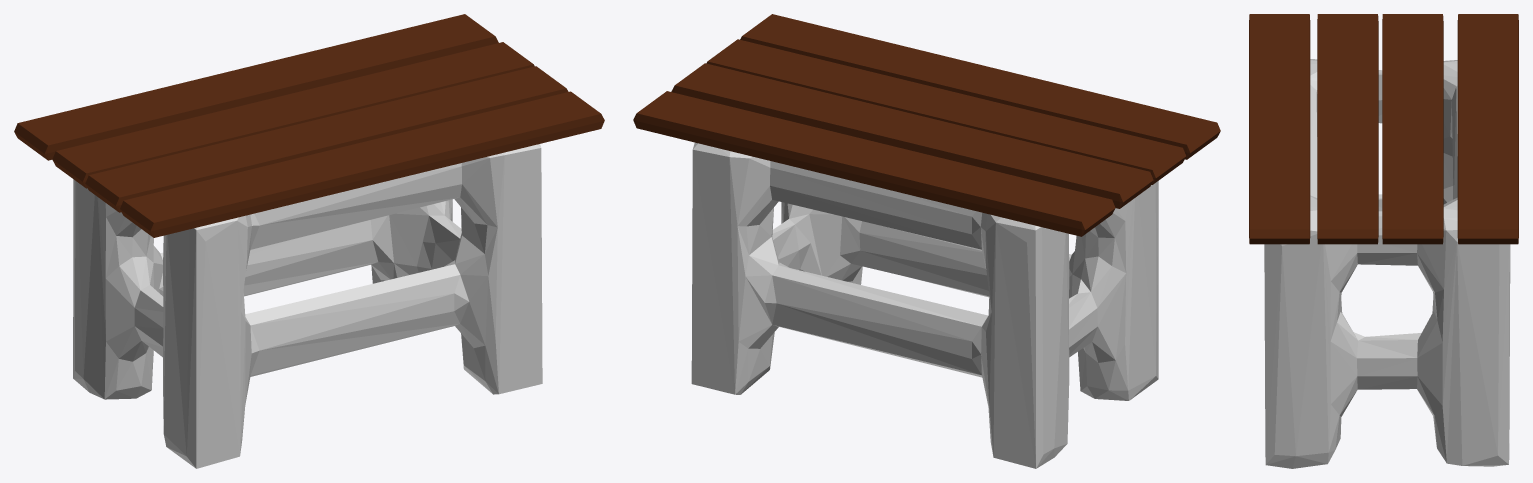
The model's file is tabouret.fbx.
3 renders of one model, left to right at view 1: azimuth 30°, elevation 25°; view 2: azimuth 150°, elevation 25°; view 3: azimuth 270°, elevation 25°, orthographic.
Parts seen in each view (by area): view 1: Pied; view 2: Pied; view 3: Pied.
Boxes of the visible parts, x1,y1,x2,y2 form: Pied: [14, 14, 604, 468]; Pied: [633, 14, 1220, 468]; Pied: [1249, 14, 1518, 468].
Bounding box in the file's own units: 259 × 147 × 135.
